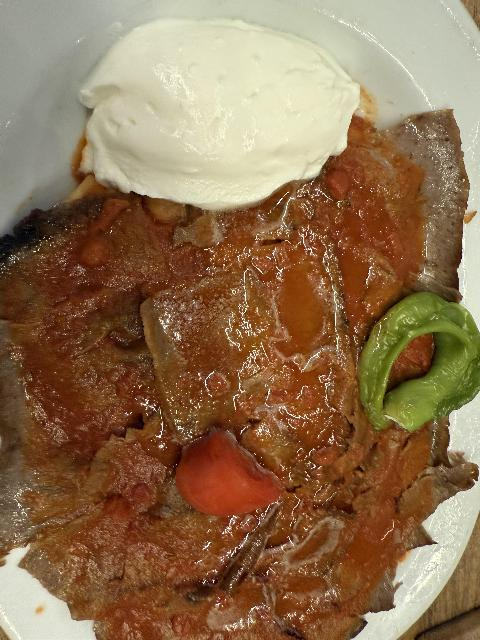Organik: (92, 27, 362, 187), (363, 297, 480, 424), (186, 437, 286, 524)
